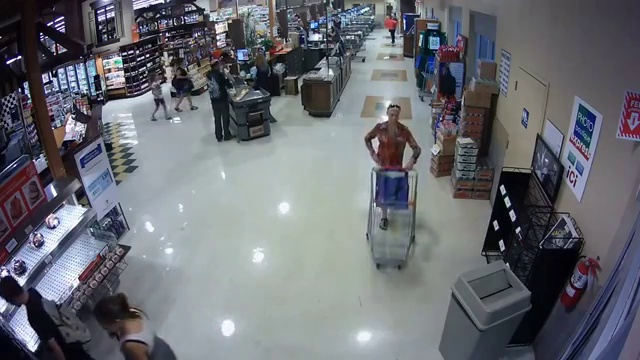face: (386, 109, 400, 125)
